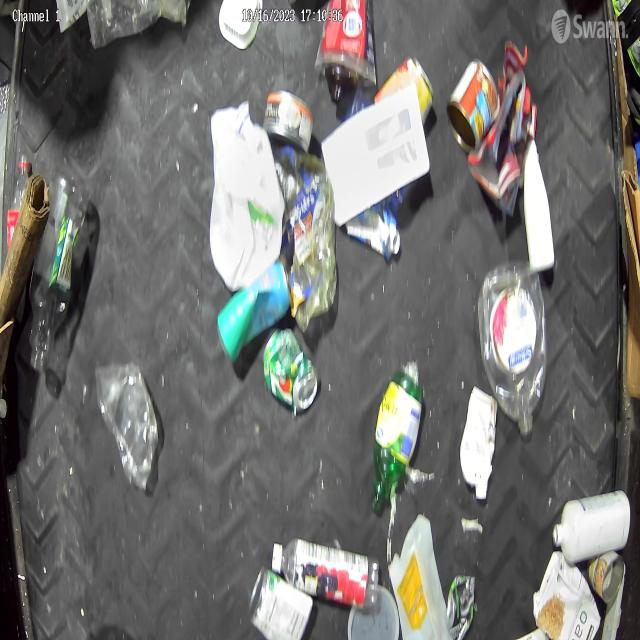can: (216, 262, 294, 356), (446, 56, 501, 153), (248, 565, 313, 640), (261, 321, 314, 412), (587, 551, 624, 603), (446, 574, 475, 640)
milk_jug: (208, 106, 282, 283)
plastic_bottle: (478, 258, 546, 436), (30, 171, 84, 360), (370, 370, 424, 514), (270, 537, 379, 605)
